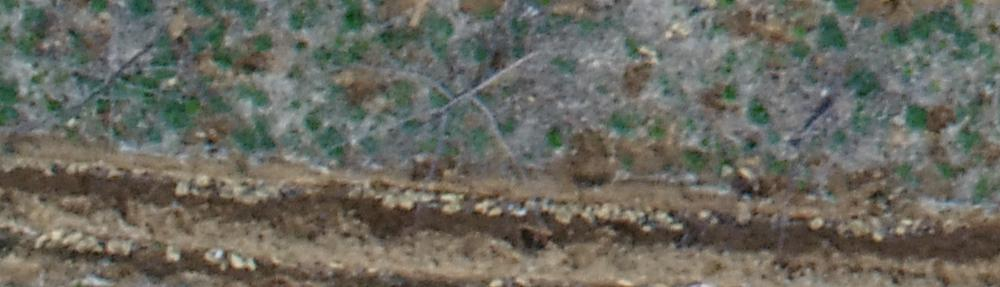apple: (291, 10, 578, 194), (19, 10, 201, 172)
